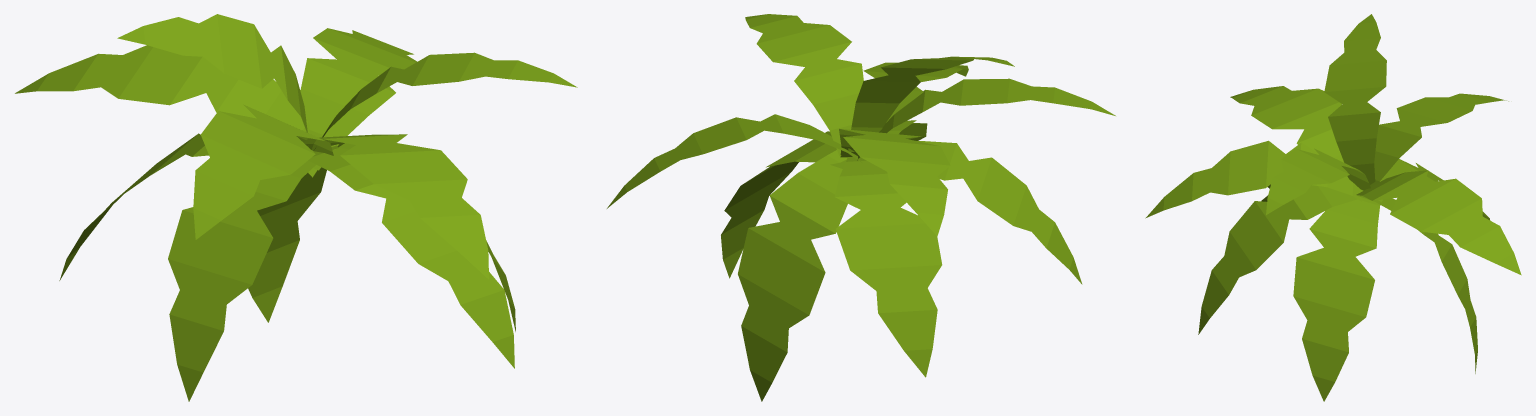
Rendered from tree-summer-leaves-036.glb.
3 renders of one model, left to right at view 1: azimuth 30°, elevation 25°; view 2: azimuth 150°, elevation 25°; view 3: azimuth 270°, elevation 25°, orthographic. The views are drawn at different scales.
Visible parts, largest first — view 1: Plane.022_271; view 2: Plane.022_271; view 3: Plane.022_271.
Boxes of the visible parts, x1,y1,x2,y2 form: Plane.022_271: [15, 14, 577, 401]; Plane.022_271: [607, 14, 1115, 401]; Plane.022_271: [1145, 14, 1521, 401].
Bounding box in the file's own units: 1.43 × 1.33 × 1.59.
